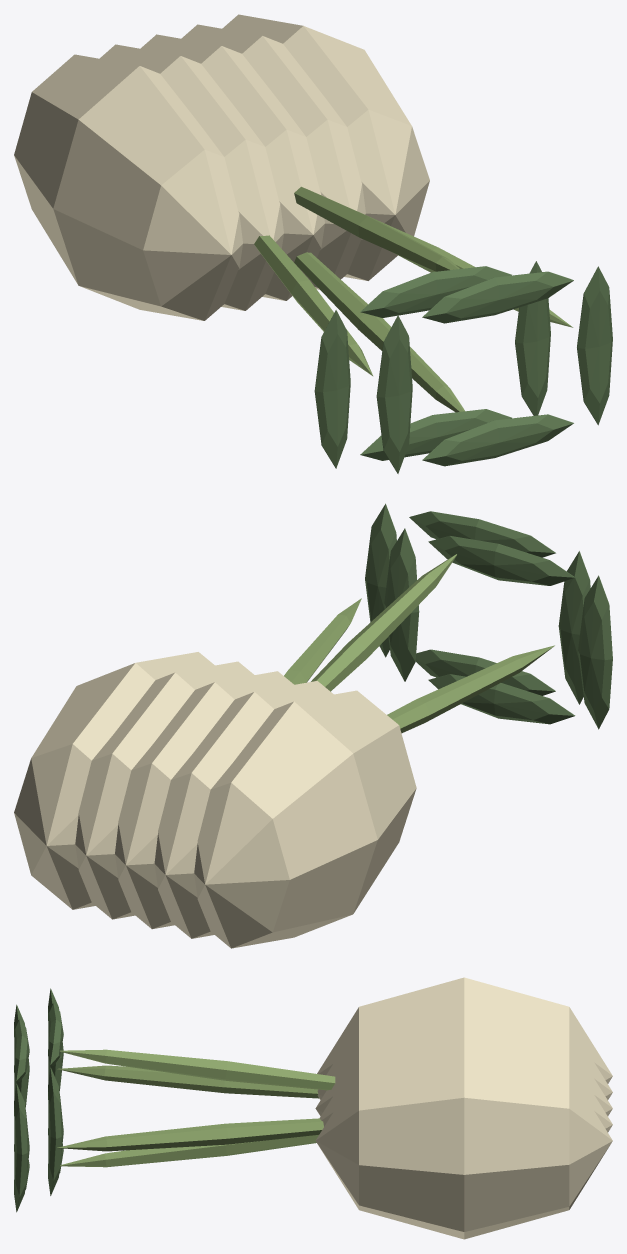
File: fennel.glb
The picture shows the model from 3 angles, top to bottom: view 1: azimuth 30°, elevation 25°; view 2: azimuth 150°, elevation 25°; view 3: azimuth 270°, elevation 25°; orthographic projection. The views are drawn at different scales.
Visible parts, largest first — view 1: fennel; view 2: fennel; view 3: fennel.
Part boxes in pixels (bbox=[...]): fennel: bbox=[14, 14, 612, 473]; fennel: bbox=[14, 503, 612, 948]; fennel: bbox=[14, 977, 612, 1239].
Size of the model in its own units: 0.074 by 0.0512 by 0.1409.
